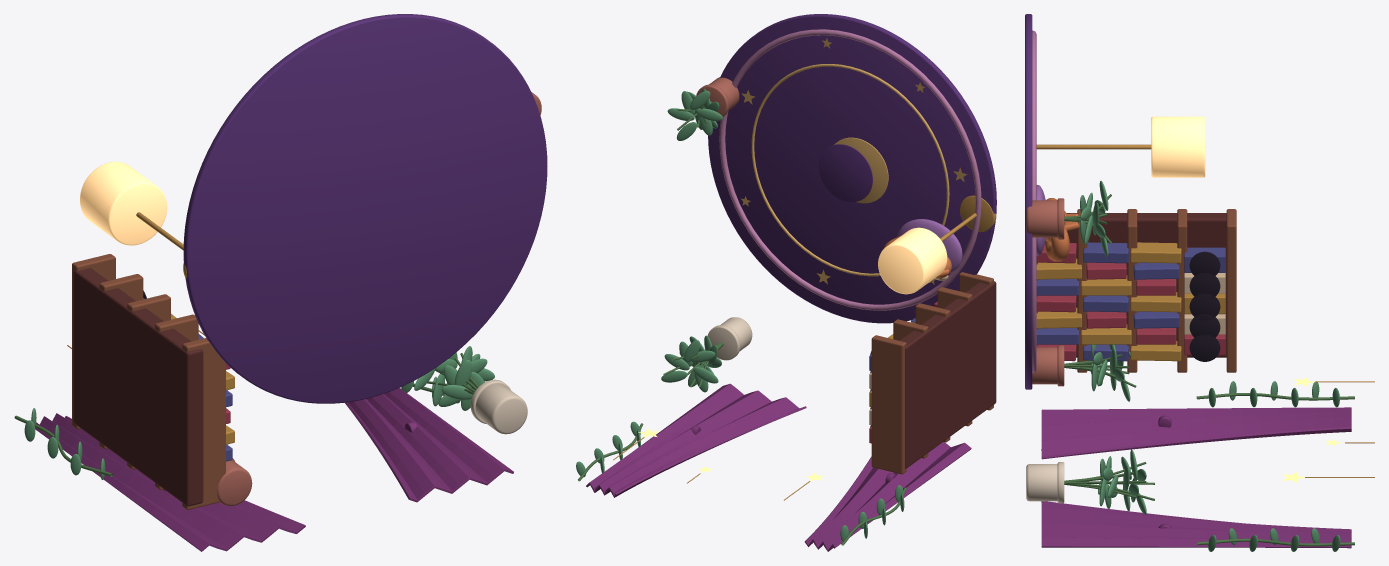
File: drum-corner-before-piano-shelf.glb
The picture shows the model from 3 angles, left to right: view 1: azimuth 30°, elevation 25°; view 2: azimuth 150°, elevation 25°; view 3: azimuth 270°, elevation 25°; orthographic projection. The views are drawn at different scales.
Visible parts, largest first — view 1: Batched_Rug_Deep_Purple, Music_Shelf_Back, Batched_Plum_Curtain_Velvet, Batched_Walnut_Wood, Lamp_Shade, Batched_Plant_Leaves, Batched_Cream_Ceramic, Batched_Warm_Ceramic, Batched_Plant_Stems; view 2: Batched_Rug_Deep_Purple, Batched_Plum_Curtain_Velvet, Music_Shelf_Back, Batched_Walnut_Wood, Rug_Outer_Border, Batched_Plant_Leaves, Batched_Rug_Muted_Gold, Lamp_Shade, Batched_Cream_Ceramic, Batched_Aged_Brass, Fox_Cushion, Batched_Plant_Stems (+1 smaller); view 3: Batched_Plum_Curtain_Velvet, Batched_Book_Ochre, Batched_Book_Indigo, Batched_Plant_Leaves, Batched_Walnut_Wood, Batched_Book_Burgundy, Music_Shelf_Back, Lamp_Shade, Batched_Vinyl_Black, Batched_Rug_Deep_Purple, Batched_Warm_Ceramic, Batched_Plant_Stems (+5 smaller).
Boxes of the visible parts, x1,y1,x2,y2 form: Batched_Rug_Deep_Purple: (183,14,547,403); Music_Shelf_Back: (73,268,203,506); Batched_Plum_Curtain_Velvet: (35,388,513,551); Batched_Walnut_Wood: (72,254,225,509); Lamp_Shade: (80,161,167,245); Batched_Plant_Leaves: (24,346,494,479); Batched_Cream_Ceramic: (470,379,527,434); Batched_Warm_Ceramic: (217,92,541,505); Batched_Plant_Stems: (14,353,479,476); Batched_Rug_Deep_Purple: (708,14,996,323); Batched_Plum_Curtain_Velvet: (586,383,971,551); Music_Shelf_Back: (899,281,996,468); Batched_Walnut_Wood: (871,272,993,474); Rug_Outer_Border: (719,29,981,310); Batched_Plant_Leaves: (576,88,904,541); Batched_Rug_Muted_Gold: (741,38,967,284); Lamp_Shade: (878,227,947,294); Batched_Cream_Ceramic: (707,317,752,360); Batched_Aged_Brass: (613,195,996,500); Fox_Cushion: (897,219,962,272); Batched_Plant_Stems: (578,101,906,545); Batched_Plum_Curtain_Velvet: (1041,407,1351,548); Batched_Book_Ochre: (1036,242,1225,361); Batched_Book_Indigo: (1036,242,1225,361); Batched_Plant_Leaves: (1080,181,1340,551); Batched_Walnut_Wood: (1036,209,1236,372); Batched_Book_Burgundy: (1036,243,1225,361); Music_Shelf_Back: (1066,213,1226,357); Lamp_Shade: (1151,116,1205,177); Batched_Vinyl_Black: (1189,251,1220,361); Batched_Rug_Deep_Purple: (1025,14,1032,389); Batched_Warm_Ceramic: (1026,198,1064,386); Batched_Plant_Stems: (1064,194,1354,546).
Size of the model in its own units: 5.91 by 7.53 by 5.25.
